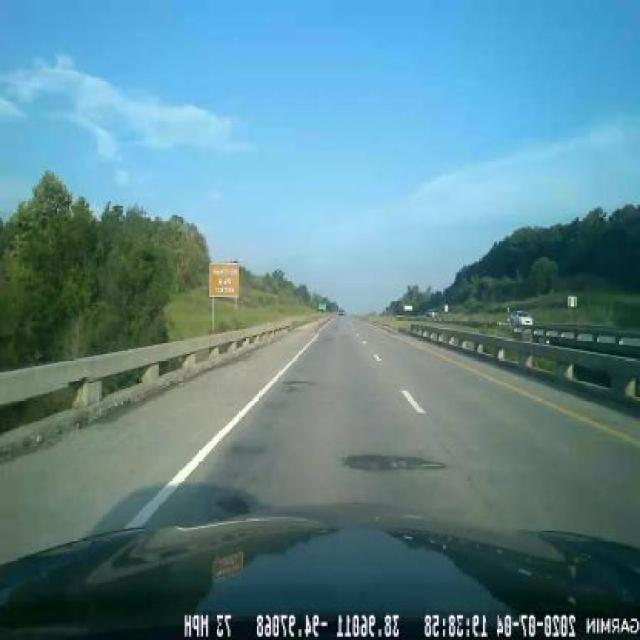pothole: (337, 435, 453, 483), (213, 488, 259, 524)
